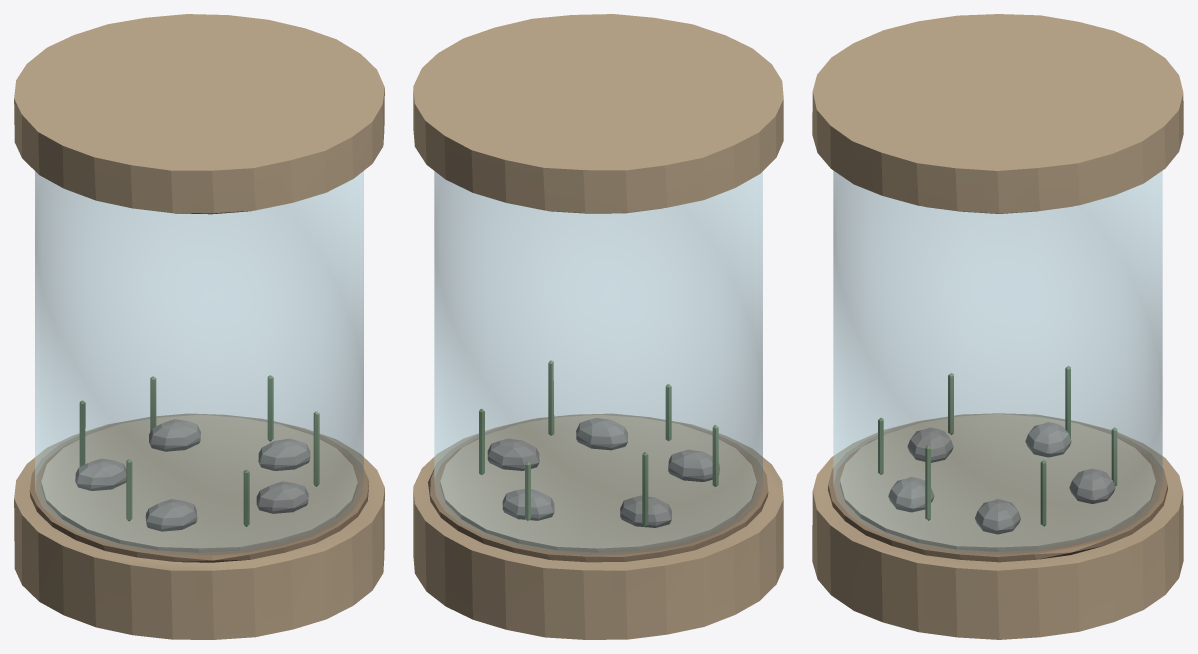
File: furn_aquarium_pillar__oak_low.glb
The picture shows the model from 3 angles, left to right: view 1: azimuth 30°, elevation 25°; view 2: azimuth 150°, elevation 25°; view 3: azimuth 270°, elevation 25°; orthographic projection.
Size of the model in its own units: 1.9 by 2.65 by 1.9.
